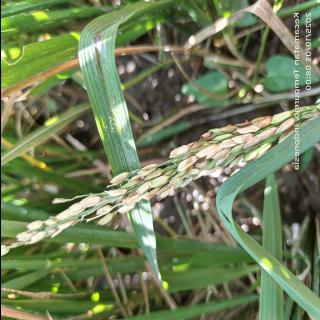Busuk-Bulir: (218, 116, 273, 134), (199, 132, 216, 141)
